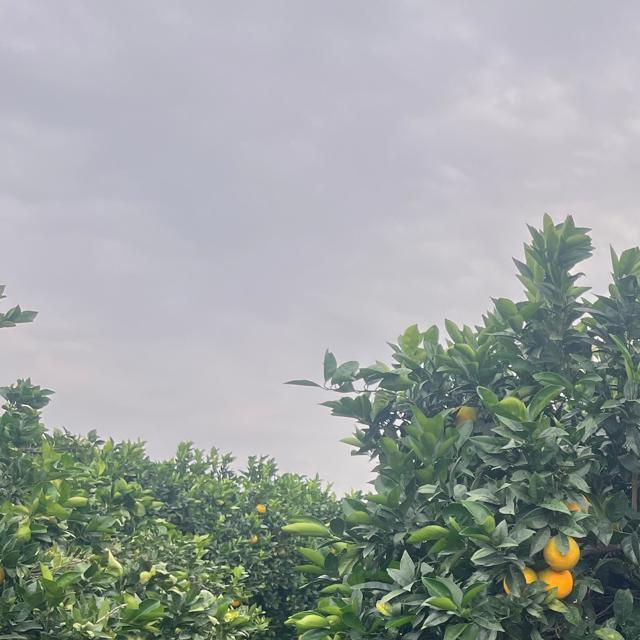orange: (543, 535, 579, 569), (537, 568, 573, 598), (503, 566, 537, 596), (455, 402, 479, 424), (255, 503, 267, 513), (249, 534, 257, 544), (230, 598, 240, 606)
